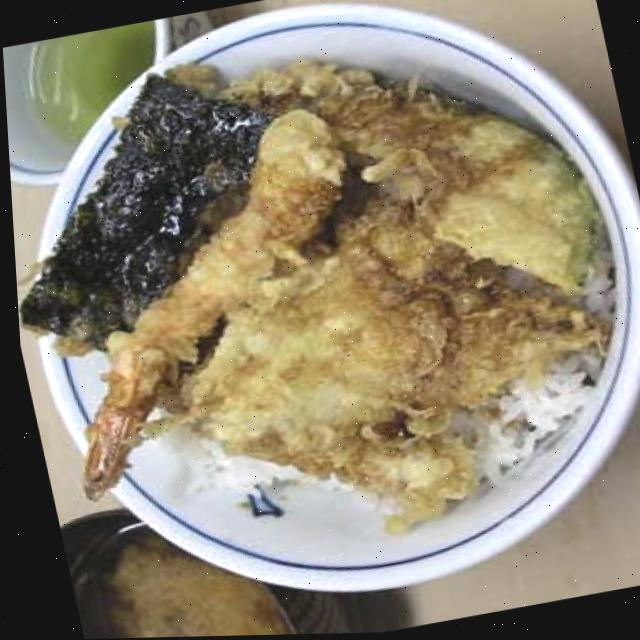汤锅炖物: (51, 479, 317, 640)
熟制海鲜: (0, 0, 640, 640)
